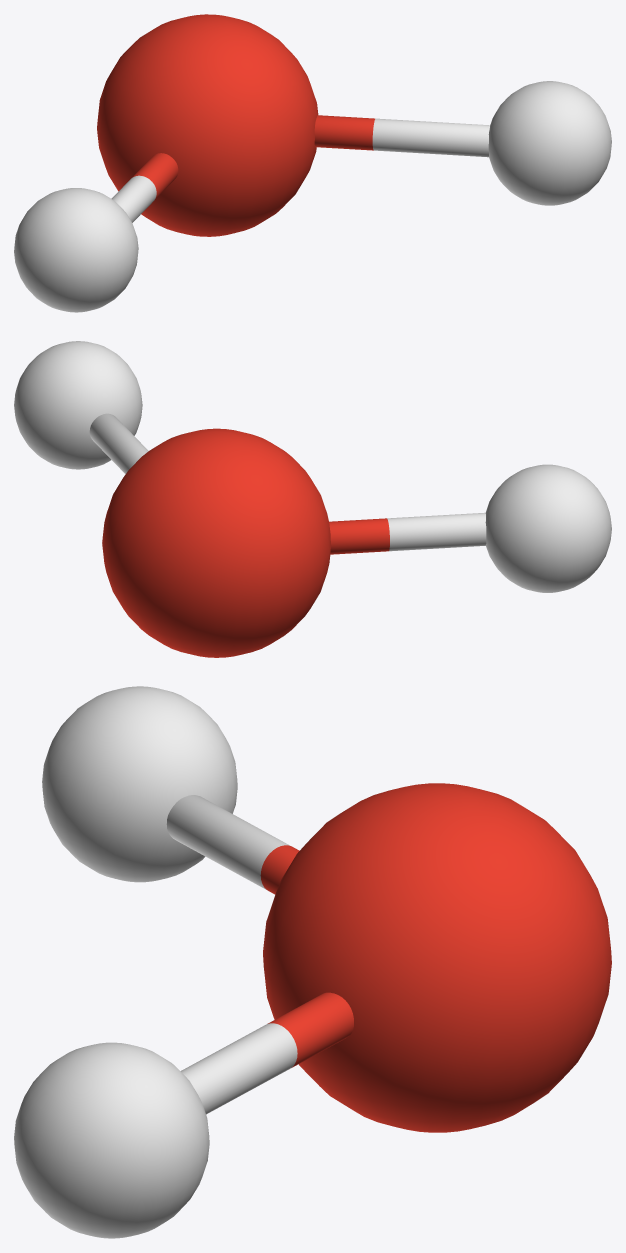
The model's file is asset.gltf.
The picture shows the model from 3 angles, top to bottom: view 1: azimuth 30°, elevation 25°; view 2: azimuth 150°, elevation 25°; view 3: azimuth 270°, elevation 25°; orthographic projection. The views are drawn at different scales.
Parts seen in each view (by area): view 1: Sphere; view 2: Sphere; view 3: Sphere.
Part boxes in pixels (bbox=[...]): Sphere: bbox=[14, 14, 611, 312]; Sphere: bbox=[14, 341, 611, 657]; Sphere: bbox=[14, 686, 611, 1238].
Bounding box in the file's own units: 0.3047 × 0.1027 × 0.1755.
